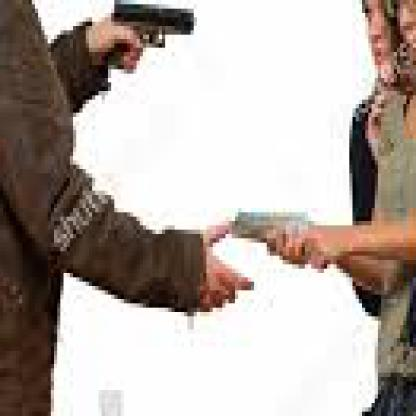gun: (102, 0, 206, 100)
